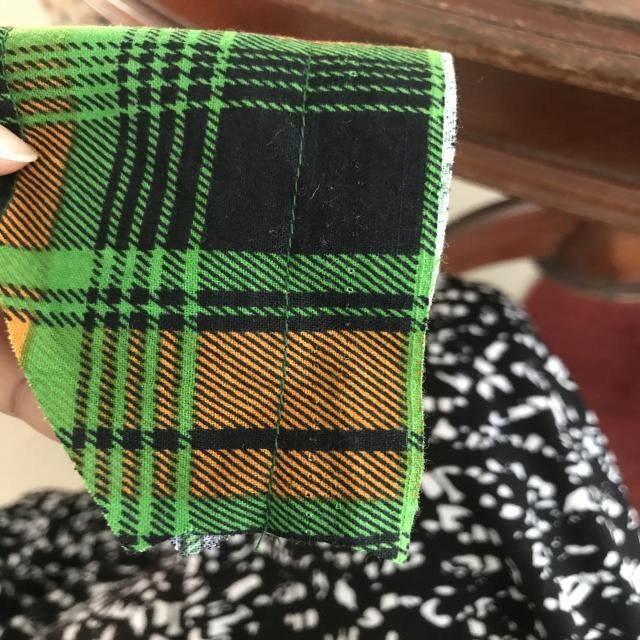good: (276, 116, 336, 186)
